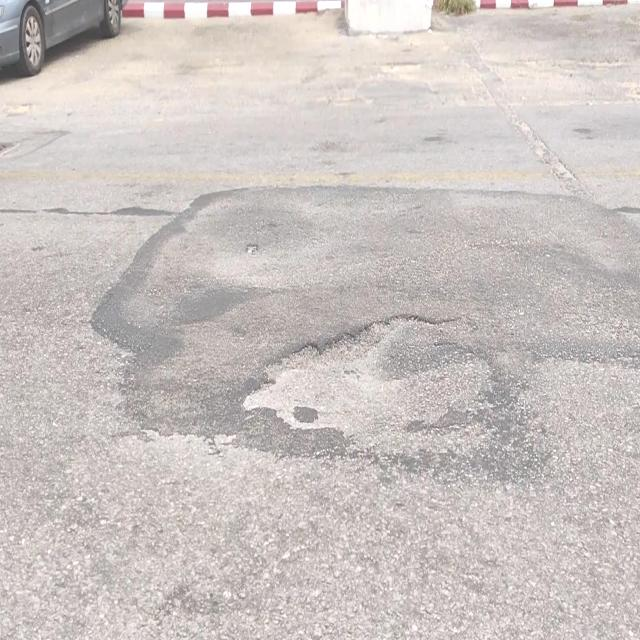Potholes: (241, 315, 483, 441)
